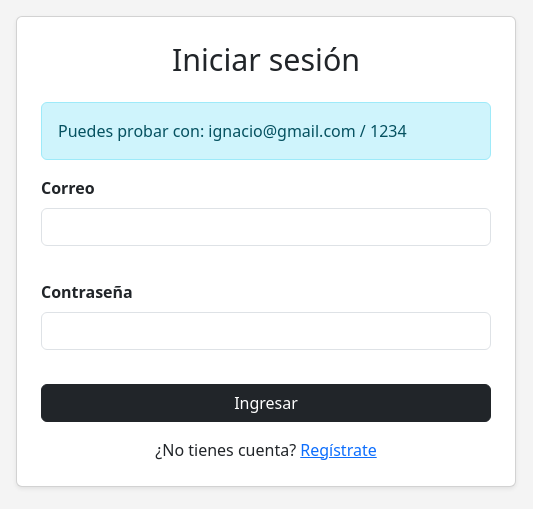
Página de Login › muestra error con credenciales incorrectas
In the field labelled "Correo": (266, 226) [41,208,491,246], type "ignacio@gmail.com"
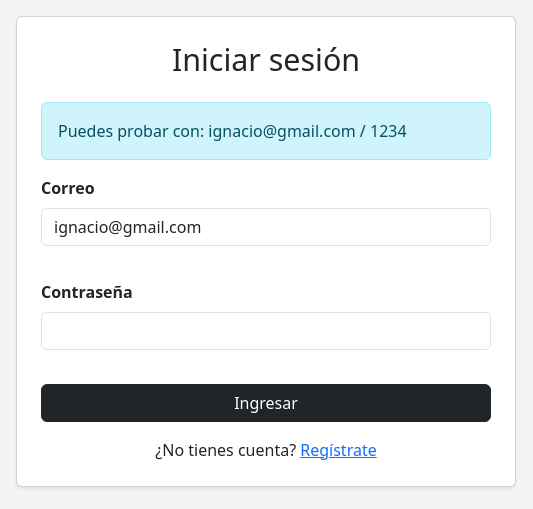
In the password field labelled "Contraseña": (266, 330) [41,312,491,350], type "9999"
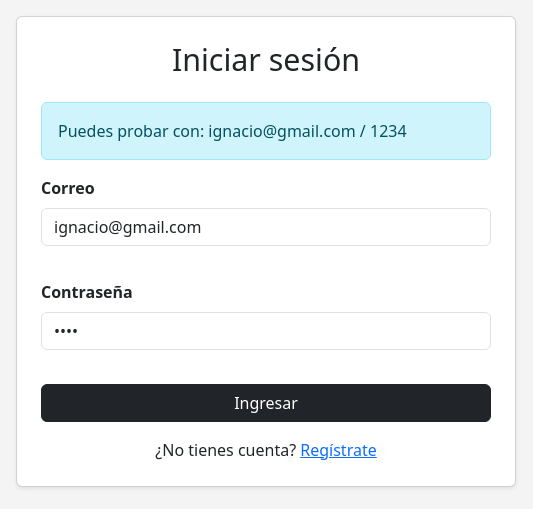
Click the button "Ingresar": (266, 402) [41,384,491,422]
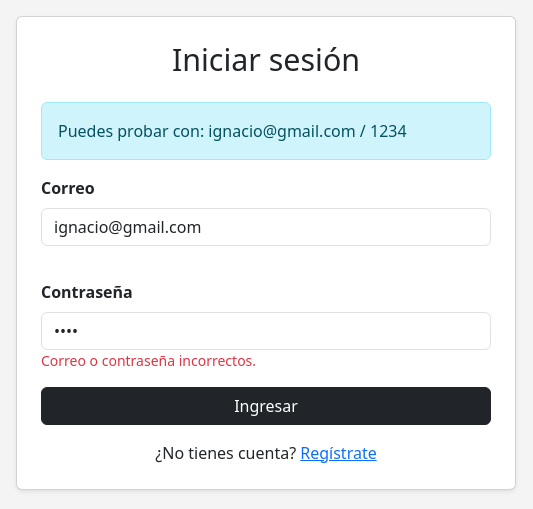
Result: the text "Correo o contraseña incorrectos." is shown at [41,350,256,370]
